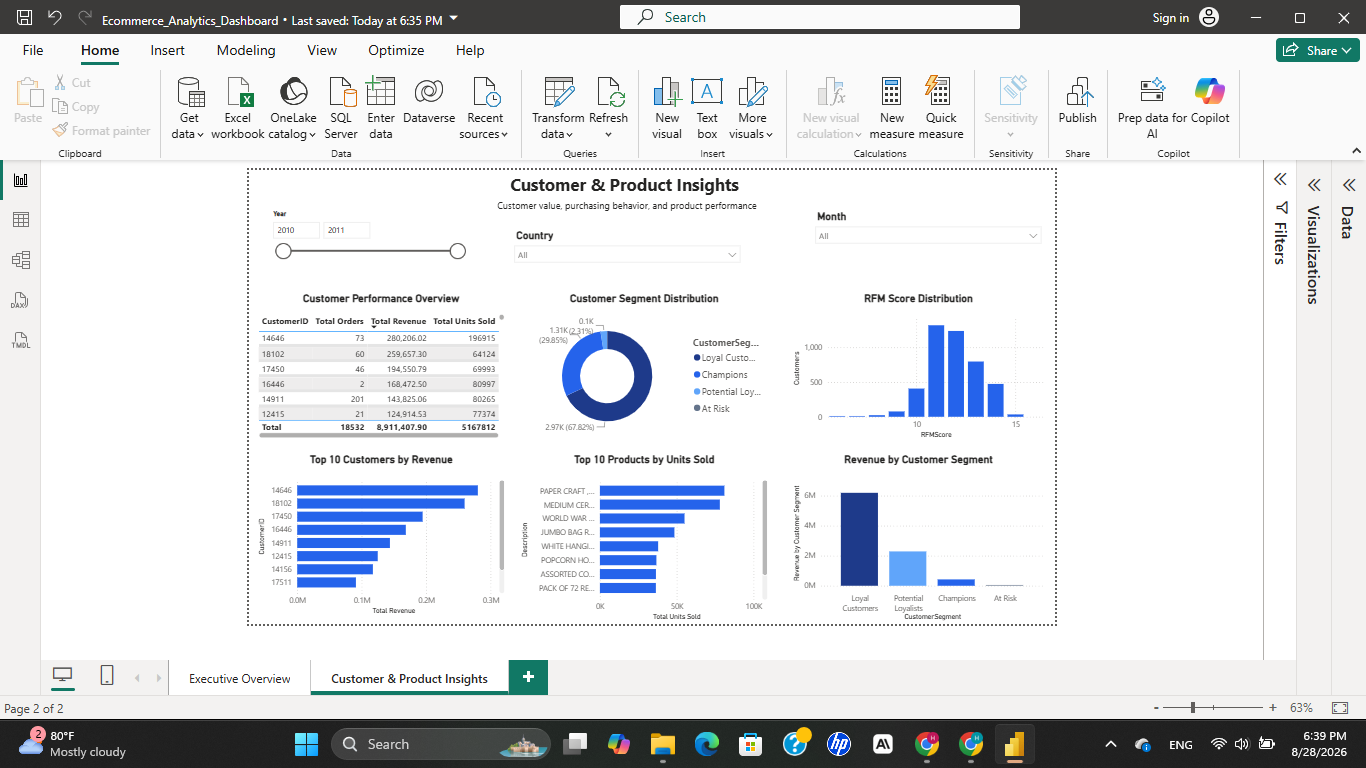

The dashboard page shown, as its layout file describes it:
{"tool":"powerbi","page":{"name":"Customer & Product Insights","canvas":[1280,720],"ordinal":1},"visuals":[{"type":"tableEx","title":"Customer Performance Overview","fields":{"Values":["Sales.CustomerID","Sales.Total Orders","Sales.Total Revenue","Sales.Total Units Sold"]},"box":[10.2,193.2,401,237.1],"z":0},{"type":"donutChart","title":" Customer Segment Distribution","fields":{"Category":["CustomerRFM.CustomerSegment"],"Y":["Count(CustomerRFM.CustomerID)"]},"box":[427.3,193.2,401,237.1],"z":1000},{"type":"clusteredColumnChart","title":"RFM Score Distribution","fields":{"Category":["CustomerRFM.RFMScore"],"Y":["Count(CustomerRFM.CustomerID)"]},"box":[859,193.2,408.3,237.1],"z":2000},{"type":"clusteredBarChart","title":"Top 10 Customers by Revenue","fields":{"Category":["Sales.CustomerID"],"Y":["Sales.Total Revenue"]},"box":[10.2,449.3,401,260.5],"z":3000},{"type":"clusteredBarChart","title":"Top 10 Products by Units Sold","fields":{"Category":["Sales.Description"],"Y":["Sales.Total Units Sold"]},"box":[427.3,449.3,401,270.7],"z":4000},{"type":"clusteredColumnChart","title":"Revenue by Customer Segment","fields":{"Category":["CustomerRFM.CustomerSegment"],"Y":["Sales.Revenue by Customer Segment"]},"box":[859,449.3,408.3,270.7],"z":5000},{"type":"textbox","box":[409.8,0,403.9,58.5],"z":6000},{"type":"textbox","box":[389.3,41,450.7,35.1],"z":7000},{"type":"slicer","fields":{"Values":["DateTable.Year"]},"box":[24.9,58.5,326.3,103.9],"z":8000},{"type":"slicer","fields":{"Values":["Sales.Country"]},"box":[411.2,89.3,379,103.9],"z":9000},{"type":"slicer","fields":{"Values":["DateTable.Month"]},"box":[888.3,58.5,379,103.9],"z":10000}]}

Visuals, with their boxes on the page's 1280x720 design canvas (x1, y1, x2, y2). These are canvas units, not pixel positions in the 1366x768 screenshot, which may show the page scaled, cropped or inside an application window:
"Customer Performance Overview" tableEx: select_region(10, 193, 411, 430)
" Customer Segment Distribution" donutChart: select_region(427, 193, 828, 430)
"RFM Score Distribution" clusteredColumnChart: select_region(859, 193, 1267, 430)
"Top 10 Customers by Revenue" clusteredBarChart: select_region(10, 449, 411, 710)
"Top 10 Products by Units Sold" clusteredBarChart: select_region(427, 449, 828, 720)
"Revenue by Customer Segment" clusteredColumnChart: select_region(859, 449, 1267, 720)
textbox: select_region(410, 0, 814, 58)
textbox: select_region(389, 41, 840, 76)
slicer - DateTable.Year: select_region(25, 58, 351, 162)
slicer - Sales.Country: select_region(411, 89, 790, 193)
slicer - DateTable.Month: select_region(888, 58, 1267, 162)
